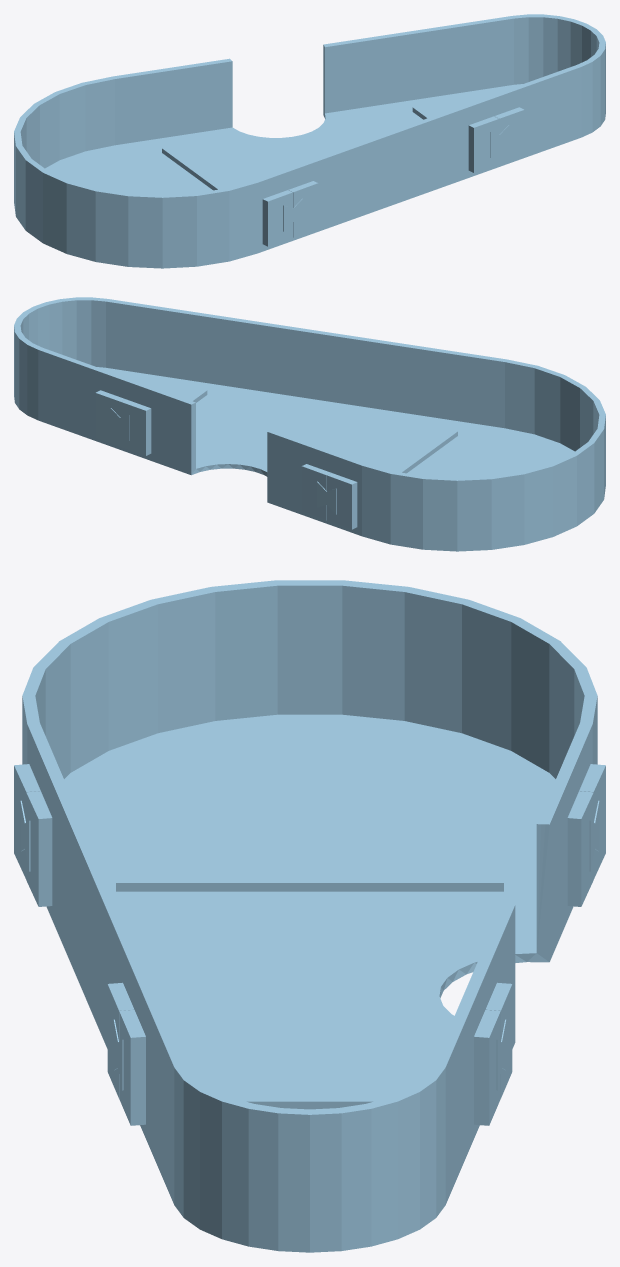
File: alzatin_Belt_Guard_-_Hollander.glb
3 renders of one model, top to bottom at view 1: azimuth 30°, elevation 25°; view 2: azimuth 150°, elevation 25°; view 3: azimuth 270°, elevation 25°, orthographic. The views are drawn at different scales.
Parts seen in each view (by area): view 1: part-0, part-1, part-2, part-3, part-5; view 2: part-1, part-0, part-2, part-4, part-6; view 3: part-0, part-1, part-2.
Boxes of the visible parts, x1,y1,x2,y2 form: part-0: [14, 71, 292, 268]; part-1: [150, 32, 499, 242]; part-2: [404, 14, 605, 168]; part-3: [490, 125, 509, 157]; part-5: [283, 198, 302, 231]; part-1: [120, 315, 469, 525]; part-0: [327, 354, 605, 551]; part-2: [14, 297, 215, 451]; part-4: [110, 408, 129, 440]; part-6: [317, 481, 336, 514]; part-0: [14, 580, 605, 891]; part-1: [26, 755, 593, 1109]; part-2: [119, 974, 500, 1252].
Size of the model in its own units: 19.55 by 2.35 by 9.15.
